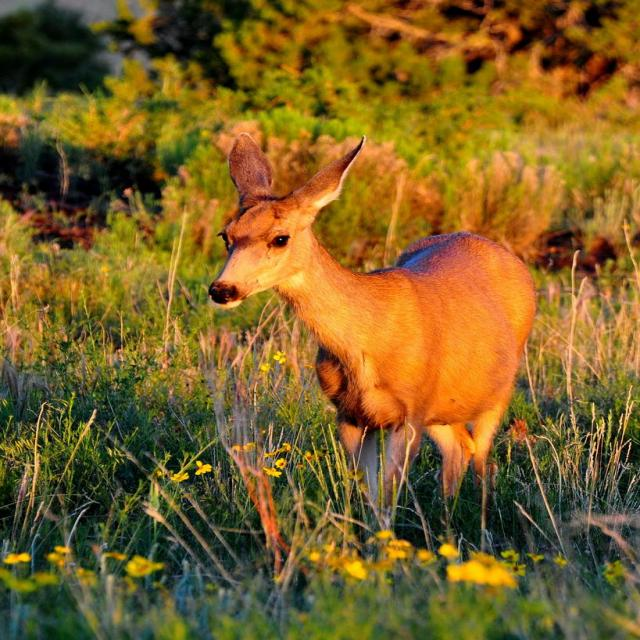Deer: (206, 134, 538, 548)
